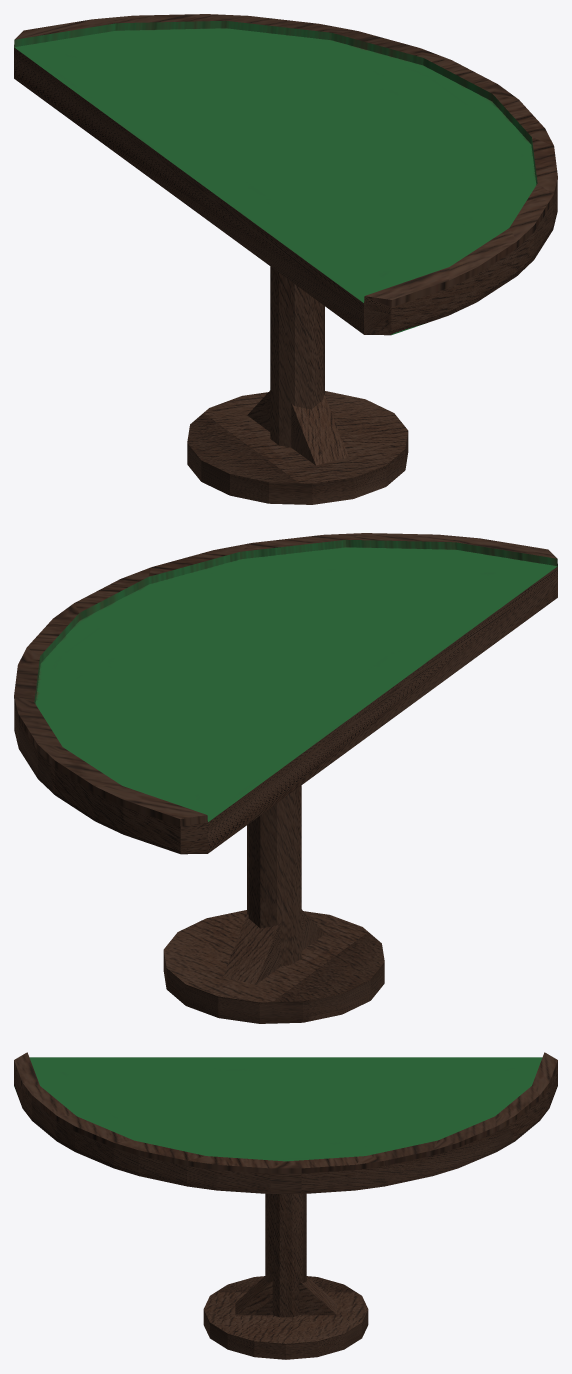
Rendered from Mesa_blackjack (1).glb.
3 views of the same model, one above another, from view 1: azimuth 30°, elevation 25°; view 2: azimuth 150°, elevation 25°; view 3: azimuth 270°, elevation 25° (orthographic). The views are drawn at different scales.
Parts seen in each view (by area): view 1: Cylinder, Cylinder.002, Cylinder.003, Cube; view 2: Cylinder, Cylinder.002, Cylinder.003, Cube; view 3: Cylinder, Cylinder.002, Cylinder.003, Cube.
Boxes of the visible parts, bbox=[...] form: Cylinder: bbox=[14, 14, 557, 335]; Cylinder.002: bbox=[187, 391, 408, 504]; Cylinder.003: bbox=[270, 266, 324, 447]; Cube: bbox=[247, 390, 348, 465]; Cylinder: bbox=[14, 533, 557, 854]; Cylinder.002: bbox=[163, 910, 384, 1023]; Cylinder.003: bbox=[247, 785, 301, 966]; Cube: bbox=[223, 909, 324, 984]; Cylinder: bbox=[14, 1052, 557, 1193]; Cylinder.002: bbox=[203, 1276, 368, 1359]; Cylinder.003: bbox=[265, 1194, 306, 1317]; Cube: bbox=[235, 1276, 336, 1315].
Bounding box in the file's own units: 3.97 × 3.78 × 7.93.
3 materials, 3 textured.
